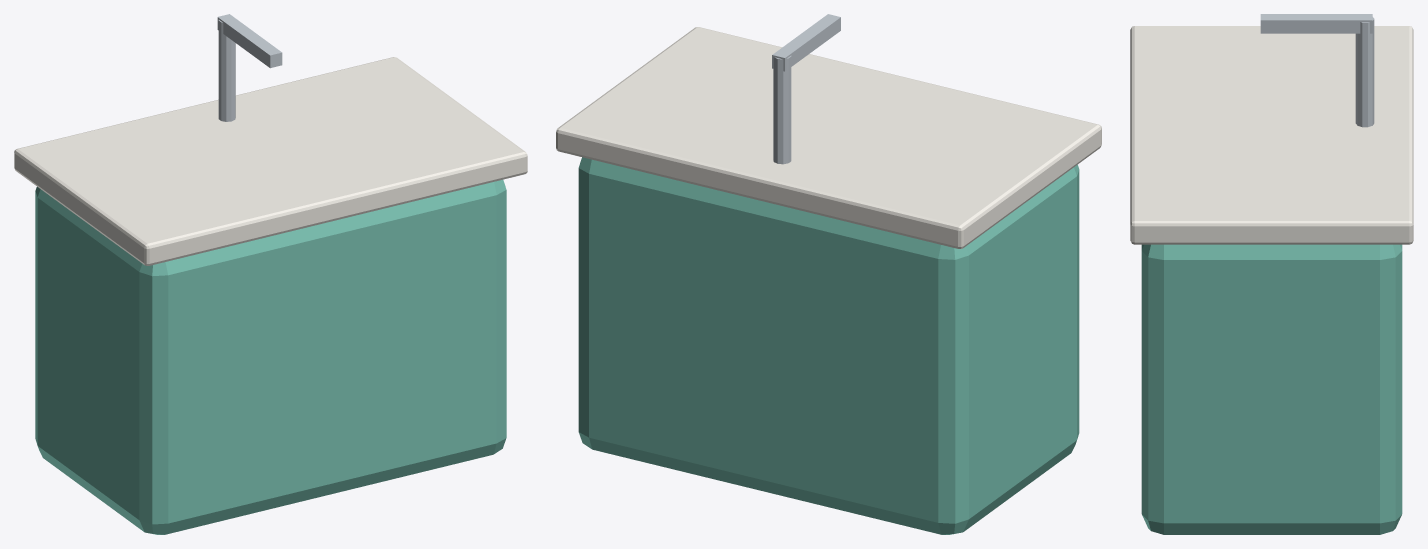
The model's file is Kitchen_Sink.fbx.
The picture shows the model from 3 angles, left to right: view 1: azimuth 30°, elevation 25°; view 2: azimuth 150°, elevation 25°; view 3: azimuth 270°, elevation 25°; orthographic projection. The views are drawn at different scales.
Parts seen in each view (by area): view 1: Sink; view 2: Sink; view 3: Sink.
Boxes of the visible parts, left/top/right/bottom form: Sink: left=14, top=14, right=527, bottom=534; Sink: left=556, top=14, right=1101, bottom=534; Sink: left=1130, top=14, right=1413, bottom=534.
Bounding box in the file's own units: 1.26 × 1.28 × 0.76.
